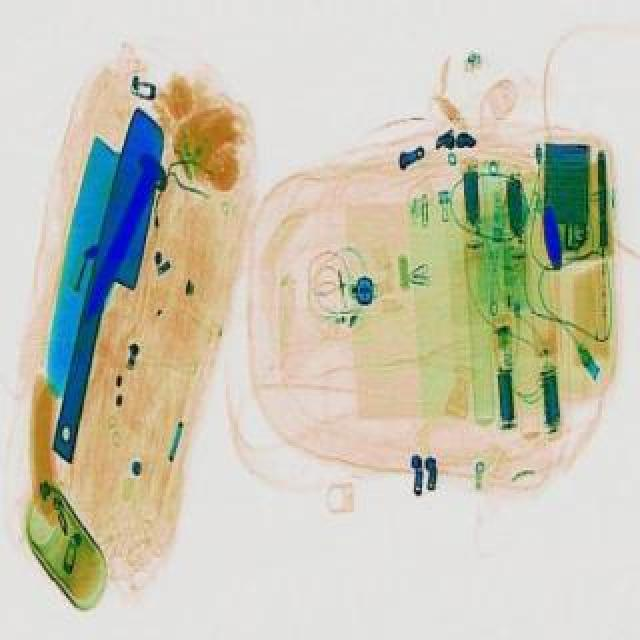knife: (36, 104, 180, 462)
